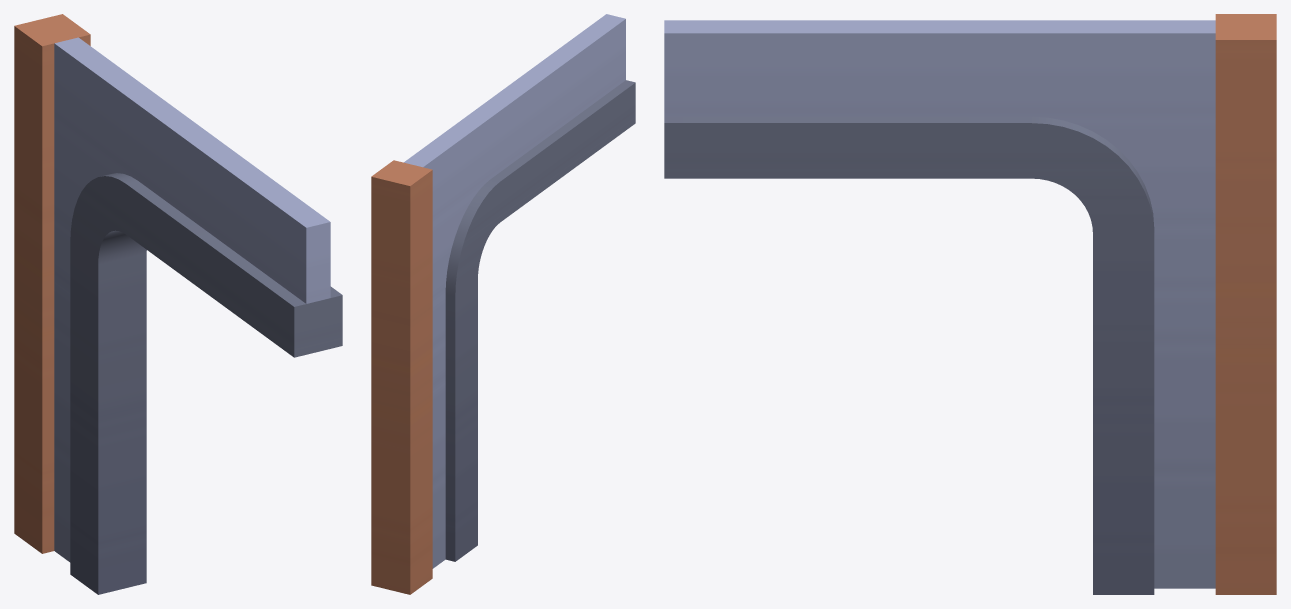
The model's file is wall-doorway-square-wide-curved.fbx.
3 renders of one model, left to right at view 1: azimuth 30°, elevation 25°; view 2: azimuth 150°, elevation 25°; view 3: azimuth 270°, elevation 25°, orthographic. The views are drawn at different scales.
Parts seen in each view (by area): view 1: wall-doorway-square-wide-curved; view 2: wall-doorway-square-wide-curved; view 3: wall-doorway-square-wide-curved.
Part boxes in pixels (x1,y1,x2,y2): wall-doorway-square-wide-curved: (14, 14, 342, 594); wall-doorway-square-wide-curved: (371, 14, 635, 594); wall-doorway-square-wide-curved: (664, 14, 1276, 594).
Size of the model in its own units: 10 by 100 by 100.
1 material, 1 textured.
